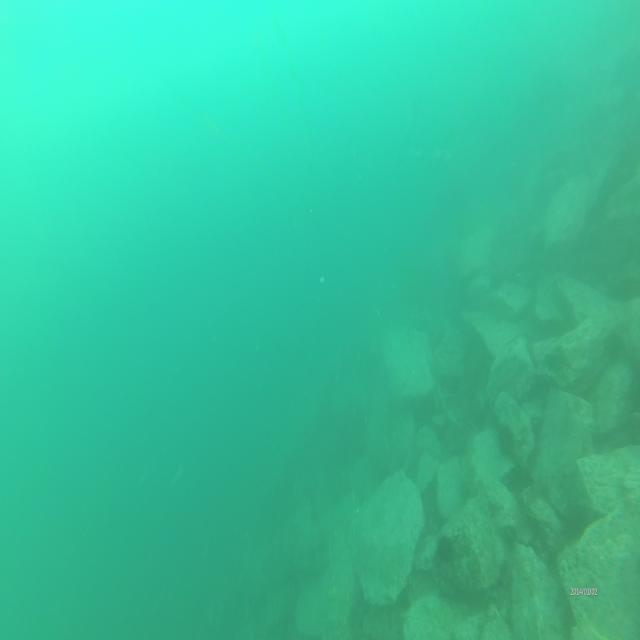echinus: (435, 534, 456, 566)
